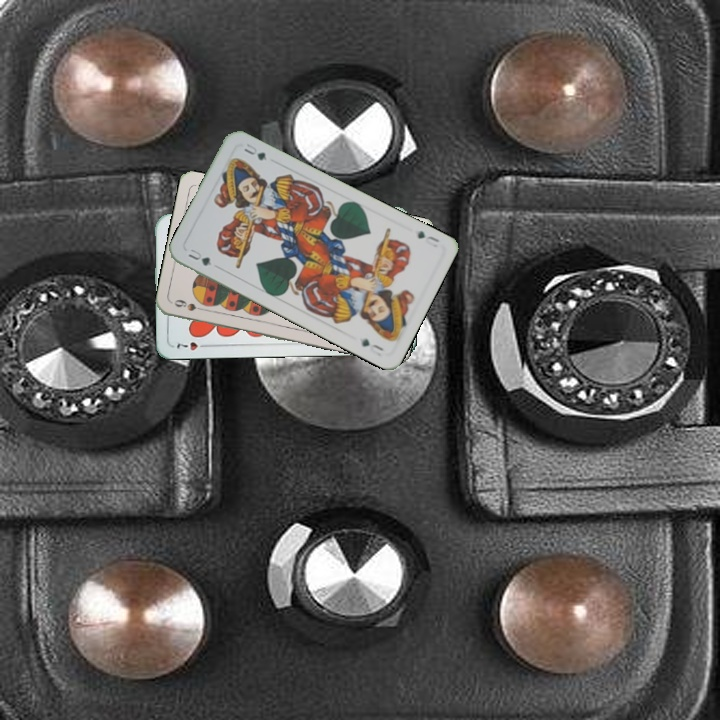GU: (184, 244, 216, 269), (413, 227, 442, 246)
H7: (173, 338, 211, 353)
S9: (170, 295, 210, 314)
